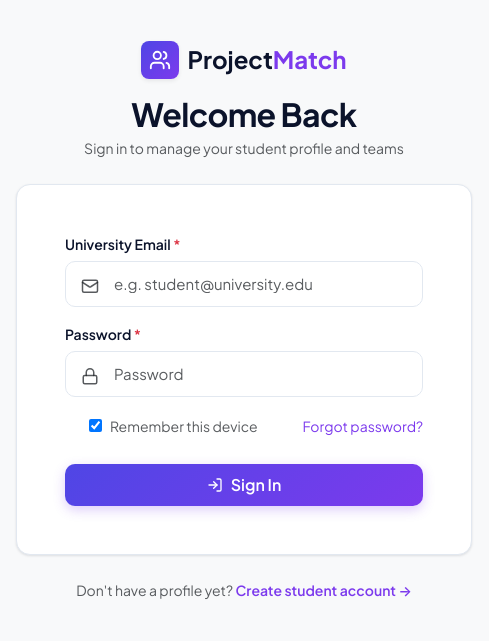
LoginPage › clears the email error as soon as the user starts correcting it
Click the button "Sign In": (244, 485) [65, 464, 423, 506]
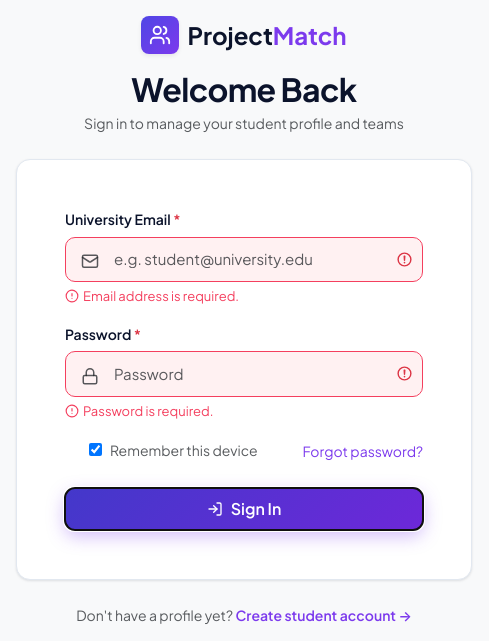
Expected: the text "Email address is required." is shown, [83, 286, 239, 307]
In the field labelled "University Email *": (244, 259) [65, 236, 423, 282], type "a"
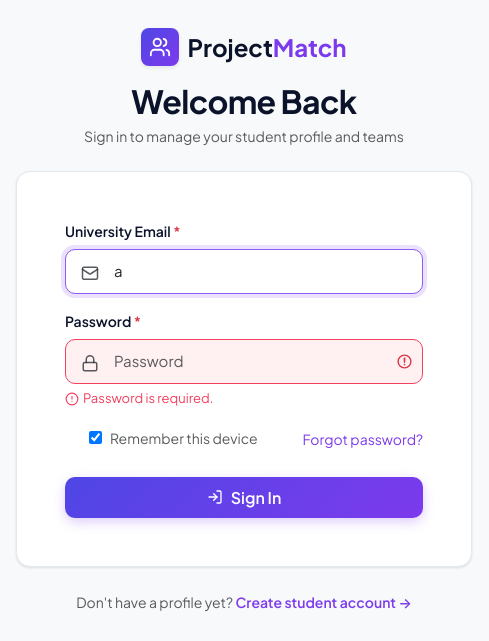
Expected: the text "Email address is required" is gone
